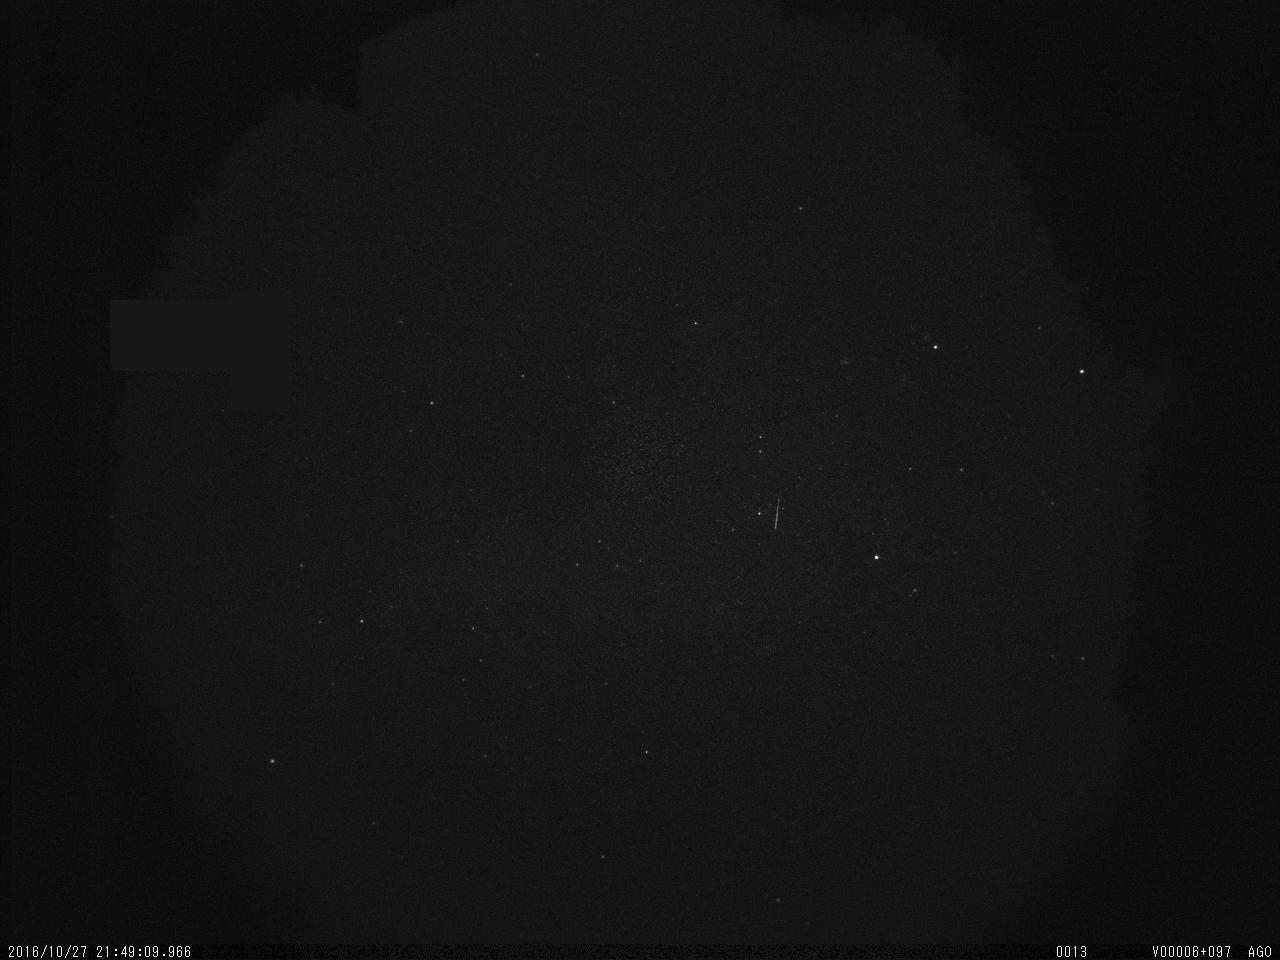meteor: (766, 482, 793, 533)
